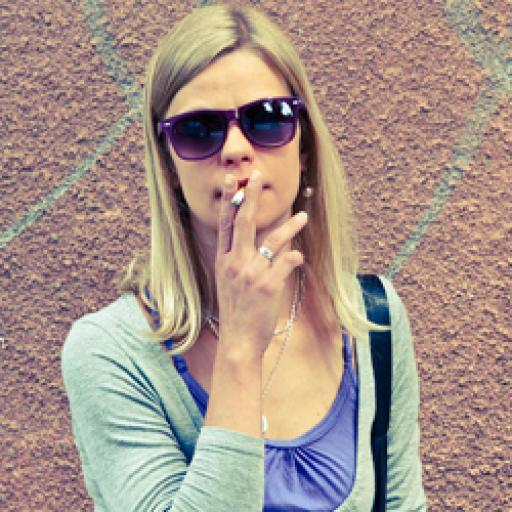terdeteksi merokok: (187, 102, 286, 252)
